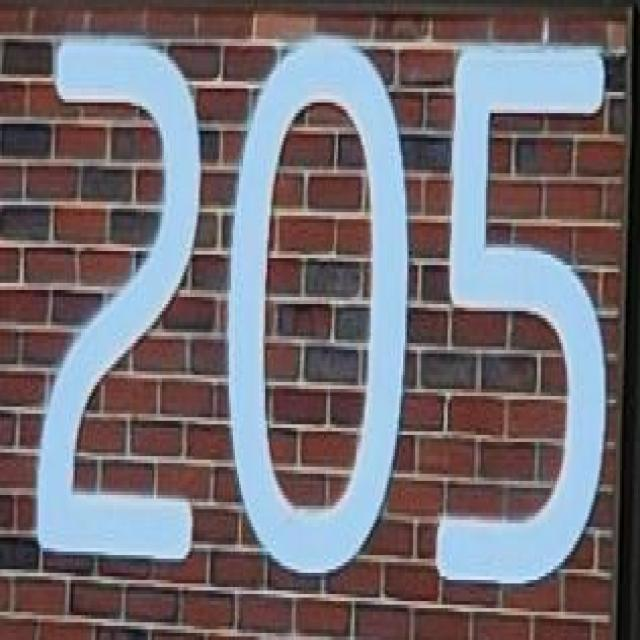character: (224, 31, 413, 587), (429, 36, 613, 596), (34, 27, 207, 573)
